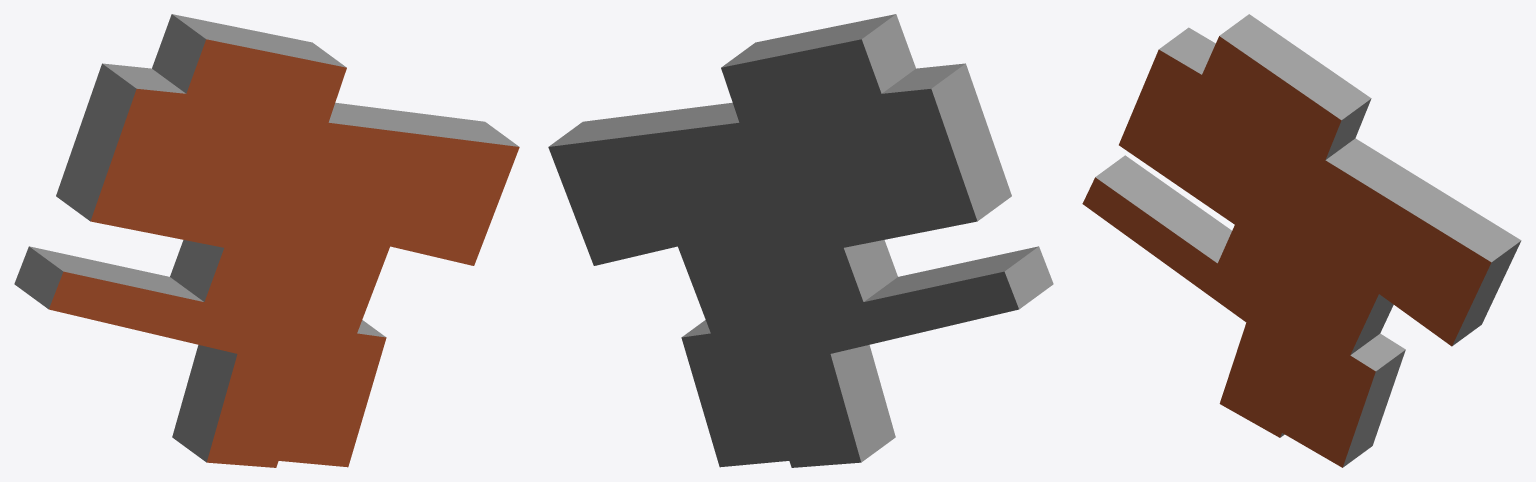
The model's file is construction_1389_assumed_A_Casa_h6m.obj.
The picture shows the model from 3 angles, left to right: view 1: azimuth 30°, elevation 25°; view 2: azimuth 150°, elevation 25°; view 3: azimuth 330°, elevation 25°; orthographic projection. The views are drawn at different scales.
Visible parts, largest first — view 1: construction_1389_assumed_A_Casa; view 2: construction_1389_assumed_A_Casa; view 3: construction_1389_assumed_A_Casa.
Boxes of the visible parts, box(x1,y1,x2,y2) form: construction_1389_assumed_A_Casa: box(14, 14, 519, 467); construction_1389_assumed_A_Casa: box(548, 14, 1053, 467); construction_1389_assumed_A_Casa: box(1082, 14, 1521, 467).
Size of the model in its own units: 47.22 by 44.33 by 6.
